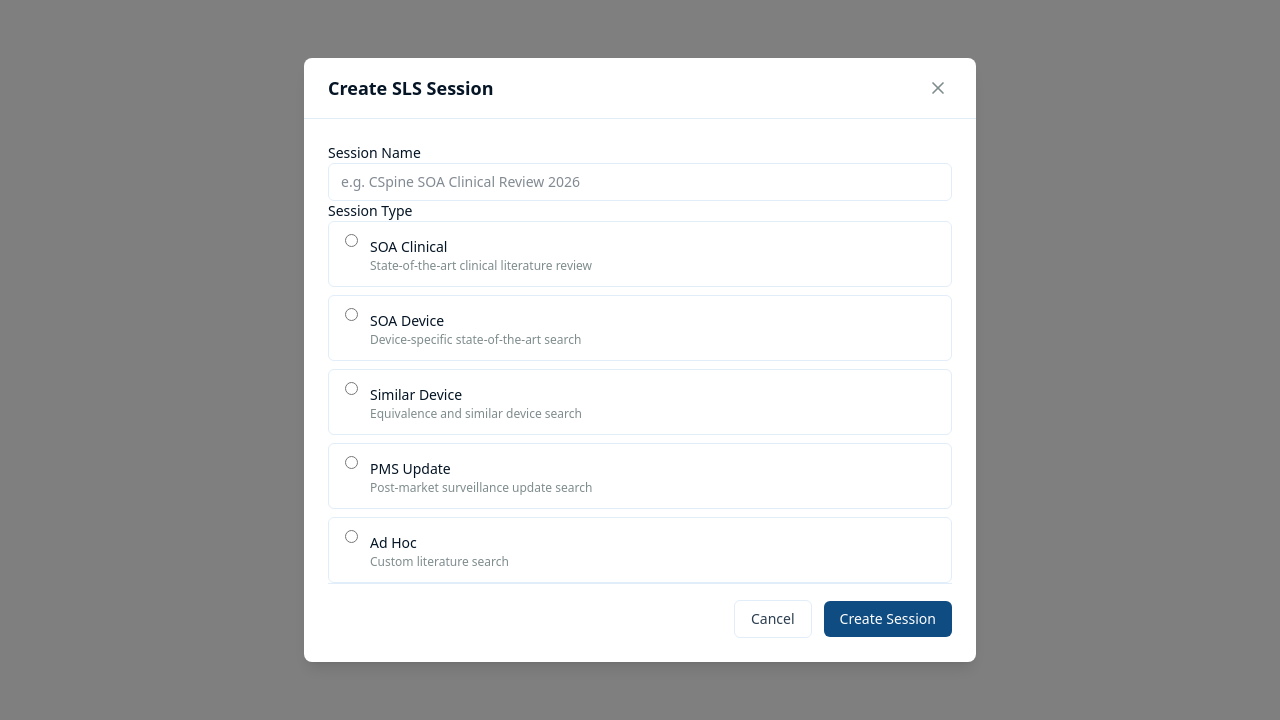
SessionCreateForm › clears type validation error when a type is selected
The image size is (1280, 720).
// Trigger validation
Click the button with test id "create-button" at (888, 619), box [824,601,952,637]
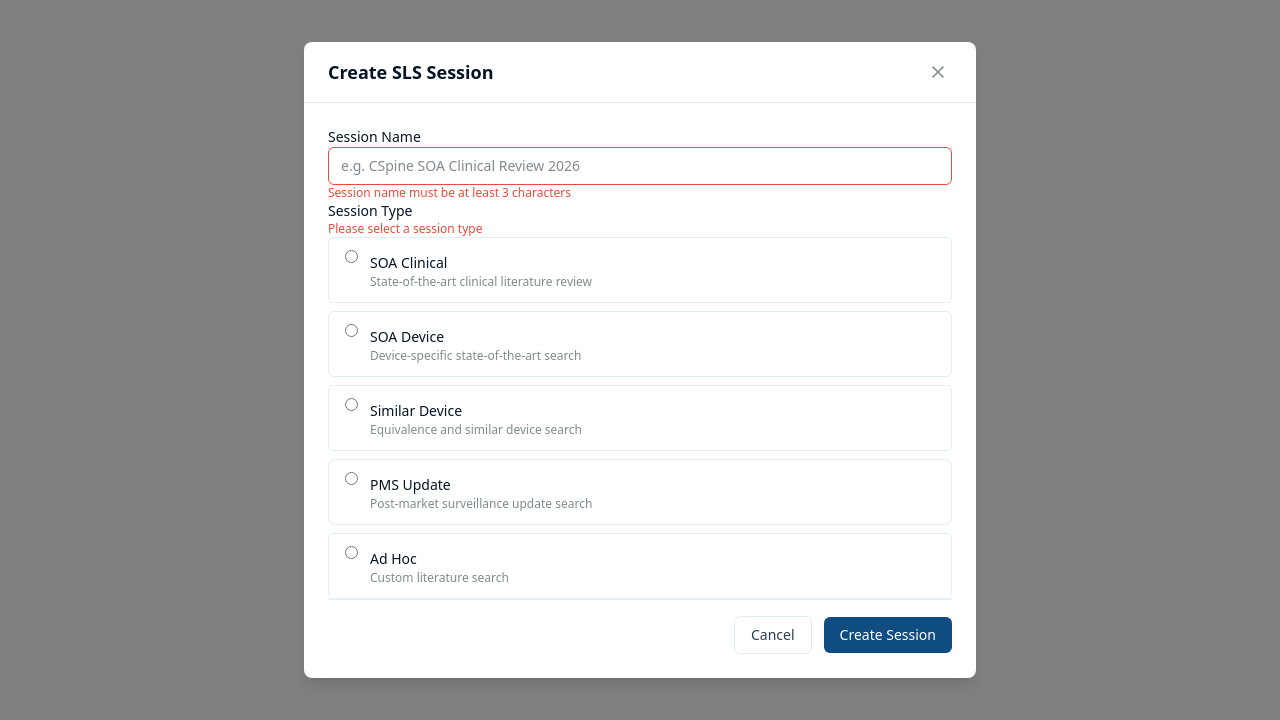
expect the text "Please select a session type" is shown: met, box [328,220,482,237]
// Select a type
Click the text "Ad Hoc" at (393, 558), box [370,549,417,568]
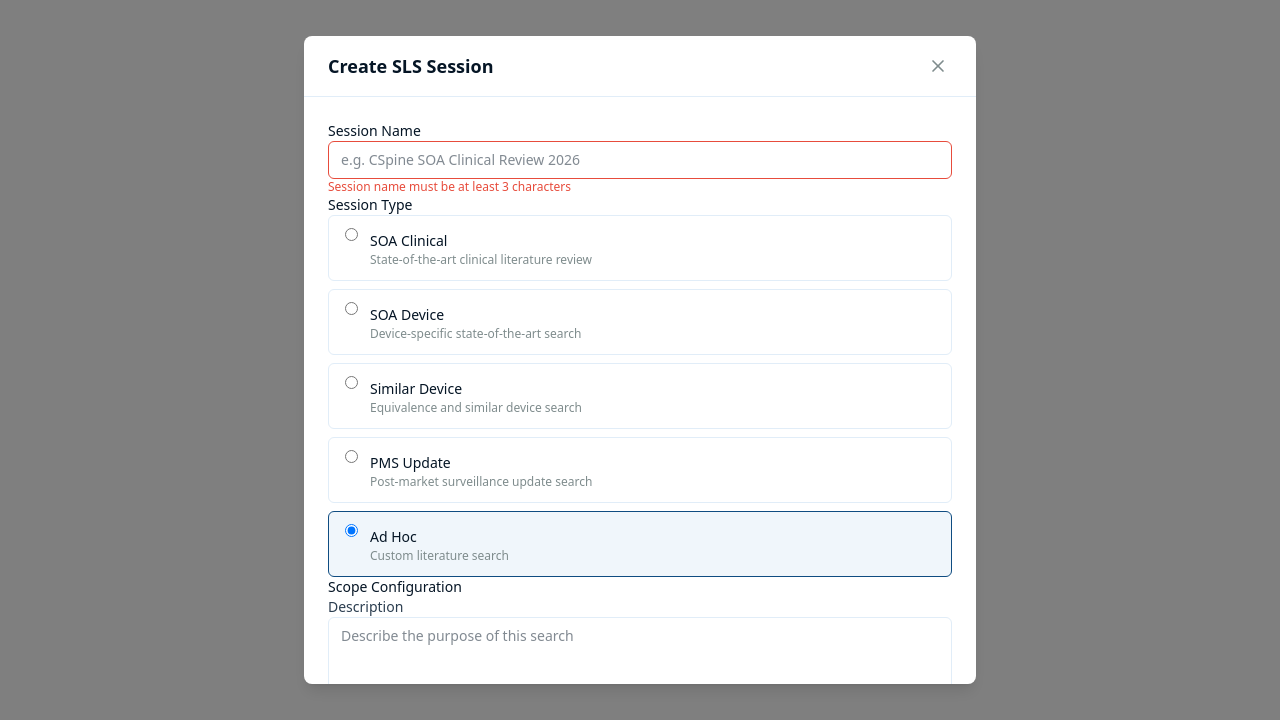
expect the text "Please select a session type" is gone: met
